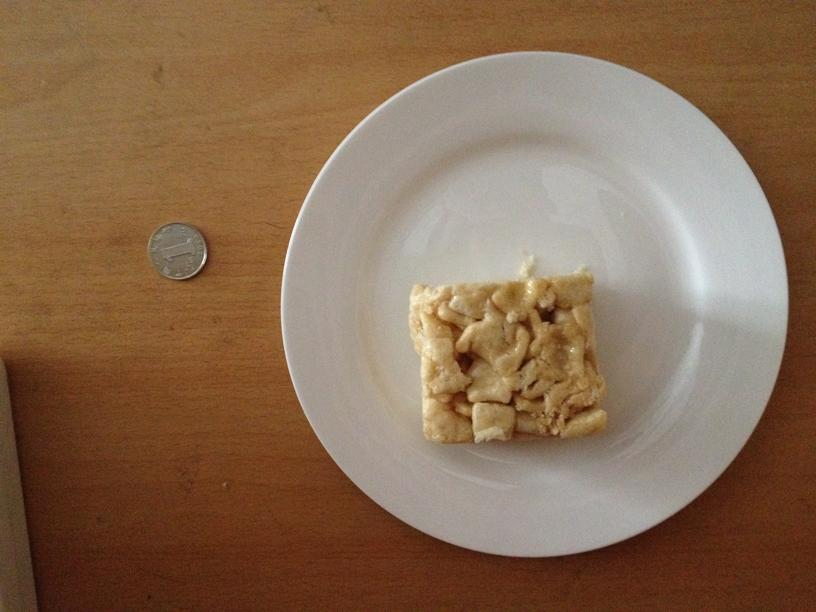coin: (146, 221, 210, 279)
sachima: (406, 275, 611, 441)
